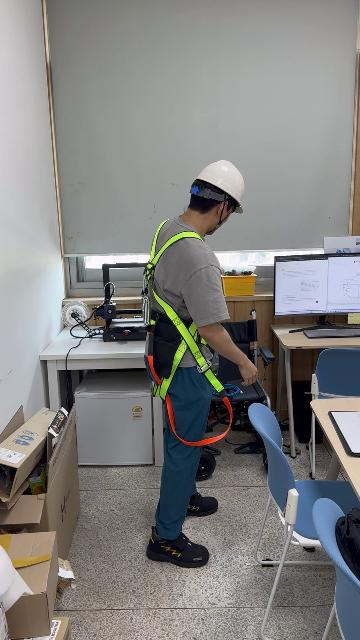helmet_worn: (191, 160, 247, 211)
shoe_worn: (147, 526, 209, 568), (186, 492, 218, 516)
vest_worn: (139, 232, 234, 435)
